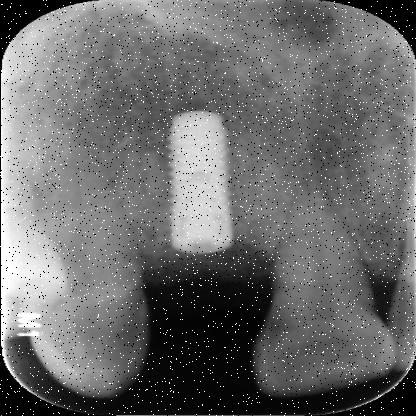ITI: (160, 108, 241, 253)
